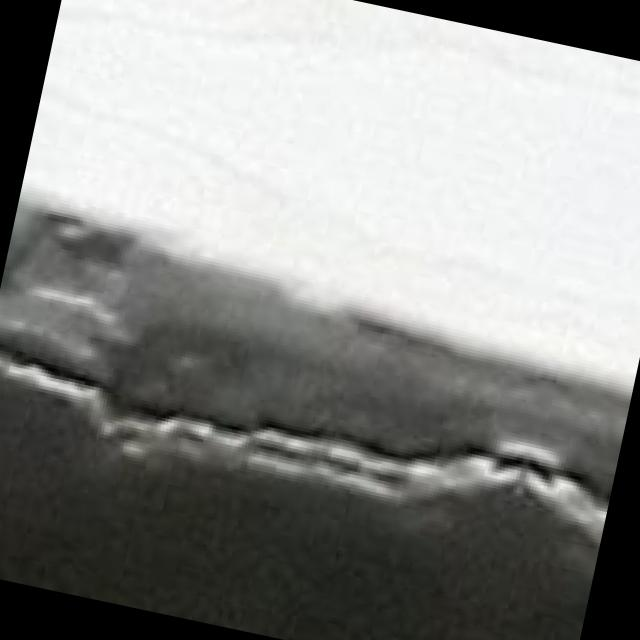crack: (0, 264, 628, 640)
